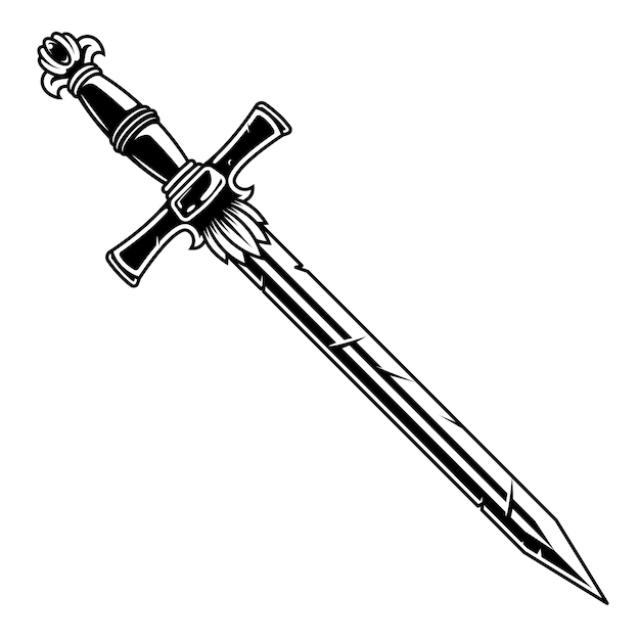Gun: (27, 22, 614, 609)
